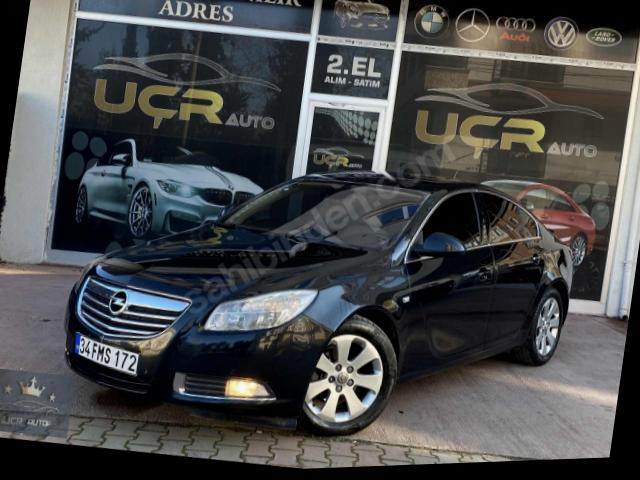plaka: (74, 333, 138, 376)
